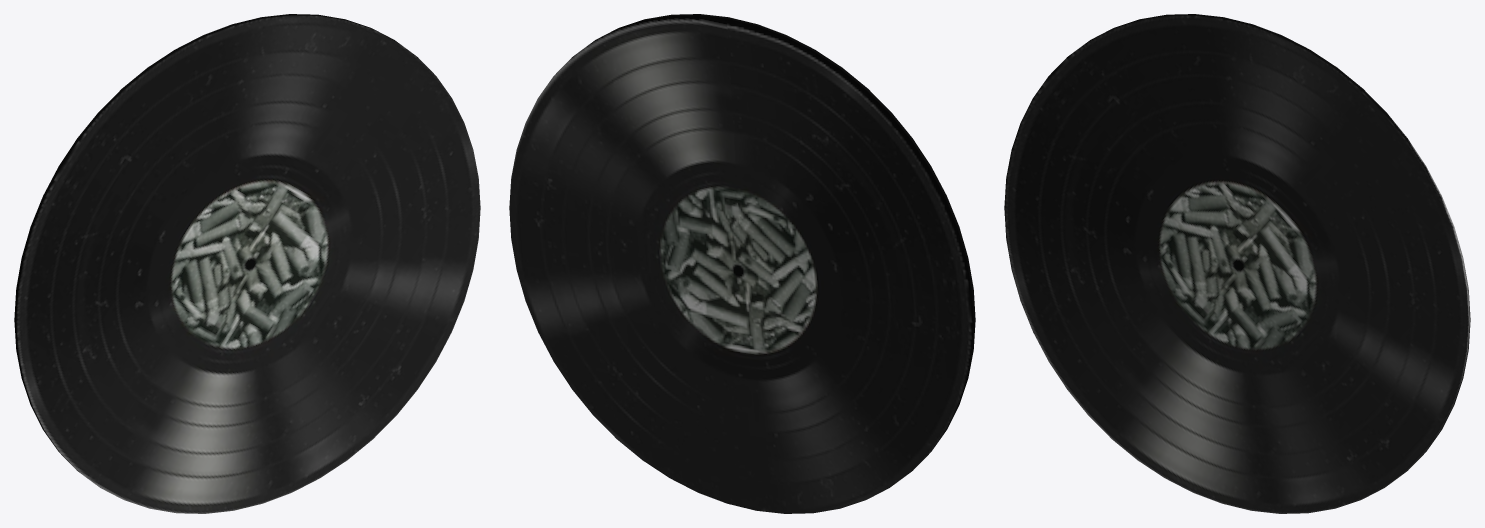
File: lpRecord.glb
3 renders of one model, left to right at view 1: azimuth 30°, elevation 25°; view 2: azimuth 150°, elevation 25°; view 3: azimuth 330°, elevation 25°, orthographic.
Visible parts, largest first — view 1: Cylinder001; view 2: Cylinder001; view 3: Cylinder001.
Part boxes in pixels (x1,y1,x2,y2): Cylinder001: [14, 14, 480, 513]; Cylinder001: [509, 14, 975, 513]; Cylinder001: [1004, 14, 1470, 513].
Size of the model in its own units: 0.3622 by 0.3615 by 0.00249.
1 material, 1 textured.
